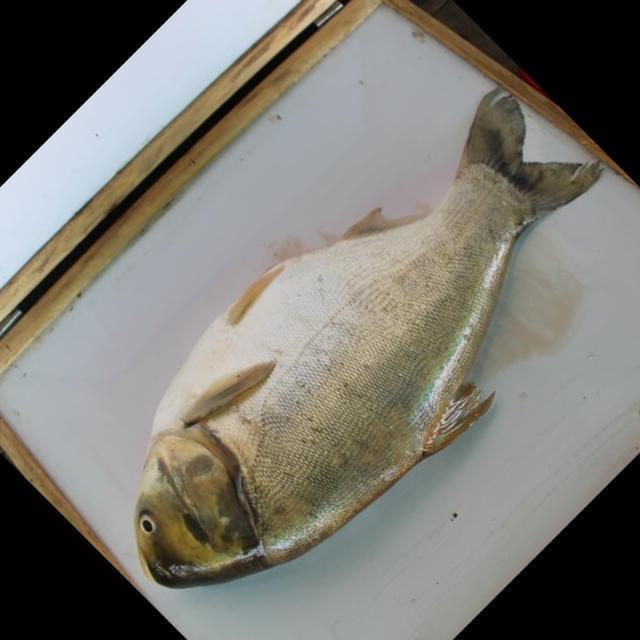SilverCarp: (119, 91, 597, 591)
